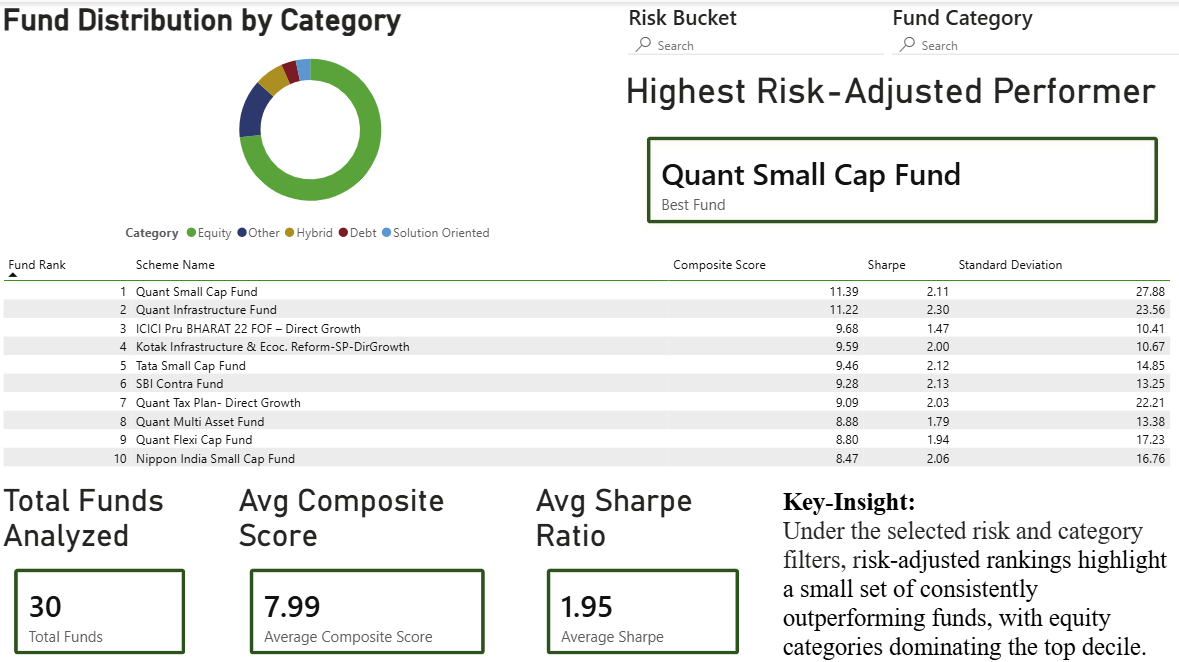

The page's visual inventory and layout, read from the dashboard file:
{"tool":"powerbi","page":{"name":"Fund Performance Overview","canvas":[1280,720],"ordinal":0},"visuals":[{"type":"cardVisual","title":"Total Funds Analyzed","fields":{"Data":["Worksheet.Total Funds"]},"box":[0,517.4,219.7,203.4],"z":0},{"type":"cardVisual","title":"Avg Sharpe Ratio","fields":{"Data":["Worksheet.Avg Sharpe"]},"box":[574.4,517.4,242.4,203.4],"z":1000},{"type":"cardVisual","title":"Avg Composite Score","fields":{"Data":["Worksheet.Avg Composite Score"]},"box":[253.8,517.4,288,203.4],"z":2000},{"type":"cardVisual","title":"Highest Risk-Adjusted Performer","fields":{"Data":["Worksheet.Best Fund"]},"box":[672,72.9,608.8,194.3],"z":3000},{"type":"donutChart","title":"Fund Distribution by Category","fields":{"Category":["Worksheet.category"],"Y":["Worksheet.Total Funds"]},"box":[0,0,673.7,267.8],"z":4000},{"type":"textbox","box":[841.2,517.4,439.3,203.4],"z":5000},{"type":"tableEx","fields":{"Values":["Worksheet.Fund Rank","Worksheet.scheme_name","Worksheet.Composite Score (Measure)","Worksheet.sharpe","Worksheet.standard_deviation"]},"box":[0,267.2,1280.8,251],"z":6000},{"type":"listSlicer","title":"Fund Category","fields":{"Values":["Worksheet.category"]},"box":[959.8,0,320.2,58.7],"z":7000},{"type":"listSlicer","fields":{"Values":["Worksheet.risk_bucket"]},"box":[674.4,0,286.1,72],"z":8000}]}

Visuals, with their boxes in screenshot pixels (x1, y1, x2, y2), scaled from the page's 1280x720 canvas onto the 1179x662 screenshot:
"Total Funds Analyzed" cardVisual: <bbox>0, 476, 202, 661</bbox>
"Avg Sharpe Ratio" cardVisual: <bbox>529, 476, 752, 661</bbox>
"Avg Composite Score" cardVisual: <bbox>234, 476, 499, 661</bbox>
"Highest Risk-Adjusted Performer" cardVisual: <bbox>619, 67, 1178, 246</bbox>
"Fund Distribution by Category" donutChart: <bbox>0, 0, 621, 246</bbox>
textbox: <bbox>775, 476, 1178, 661</bbox>
tableEx - Worksheet.Fund Rank x Worksheet.scheme_name: <bbox>0, 246, 1178, 476</bbox>
"Fund Category" listSlicer: <bbox>884, 0, 1178, 54</bbox>
listSlicer - Worksheet.risk_bucket: <bbox>621, 0, 885, 66</bbox>
